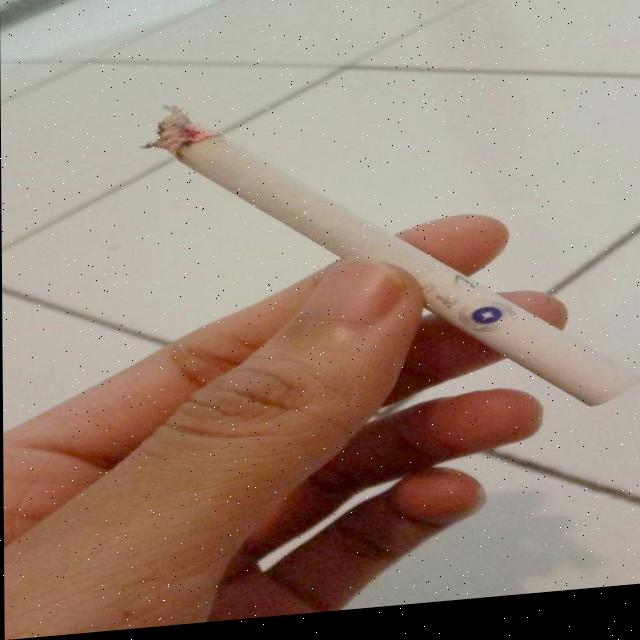cigarette: (152, 77, 640, 448)
